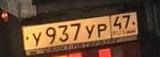license-plateSW: (22, 11, 139, 51)
